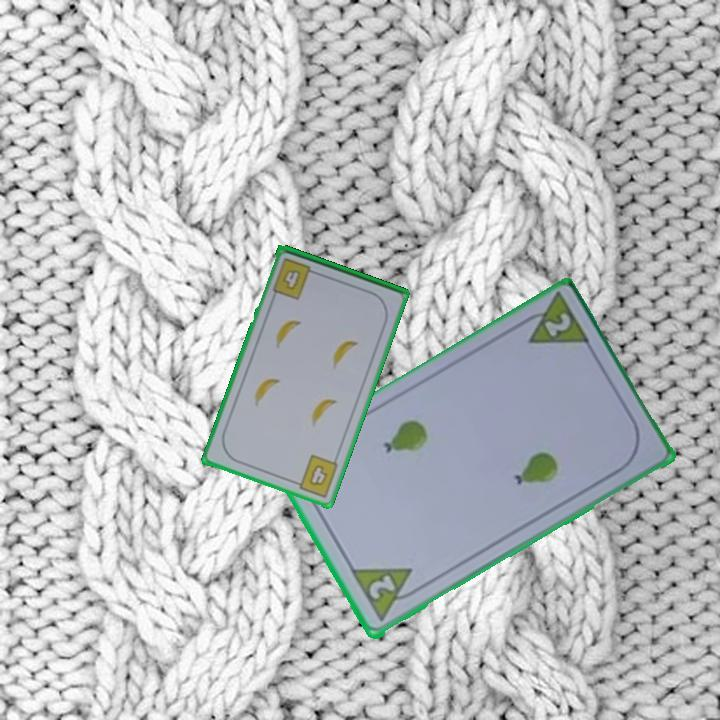2p: (513, 290, 594, 350), (364, 572, 398, 603)
4b: (289, 451, 341, 500), (280, 268, 302, 293)
